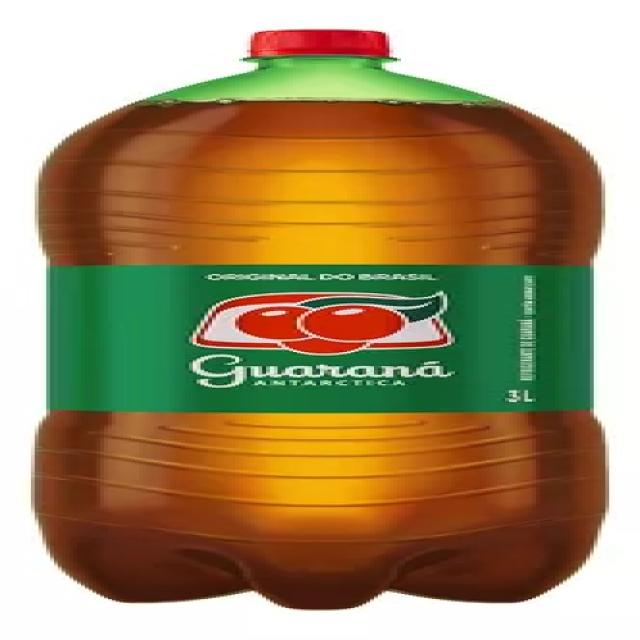bottom: (24, 532, 596, 608)
cap: (211, 26, 418, 73)
